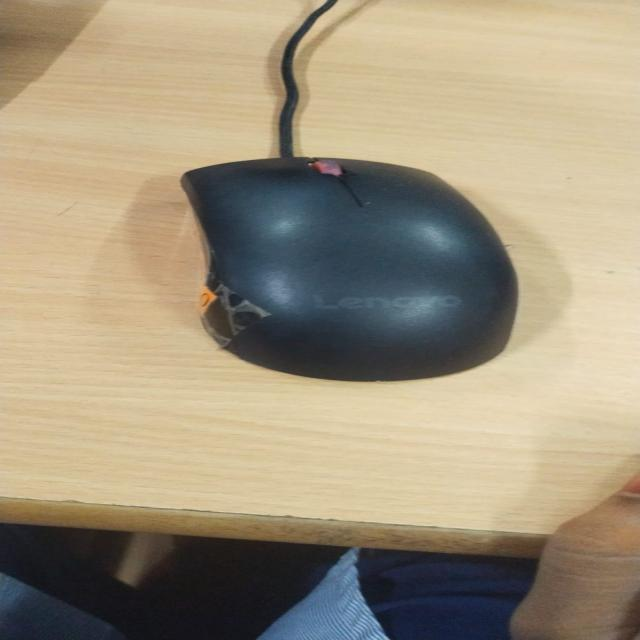mouse: (99, 150, 626, 392)
